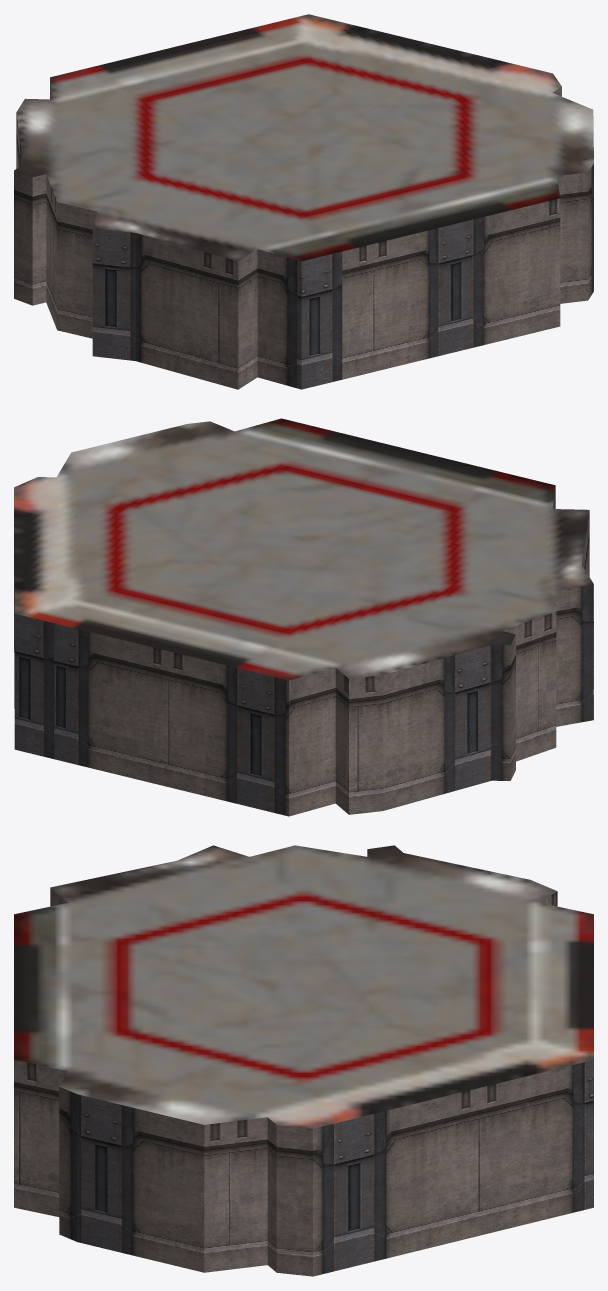
The model's file is bsealed_light_52.glb.
3 renders of one model, top to bottom at view 1: azimuth 30°, elevation 25°; view 2: azimuth 150°, elevation 25°; view 3: azimuth 270°, elevation 25°, orthographic. The views are drawn at different scales.
Visible parts, largest first — view 1: buildings/saxarba/bsealed_light/bsealed_light_52; view 2: buildings/saxarba/bsealed_light/bsealed_light_52; view 3: buildings/saxarba/bsealed_light/bsealed_light_52.
Boxes of the visible parts, bbox=[...] form: buildings/saxarba/bsealed_light/bsealed_light_52: bbox=[14, 14, 593, 389]; buildings/saxarba/bsealed_light/bsealed_light_52: bbox=[14, 418, 593, 816]; buildings/saxarba/bsealed_light/bsealed_light_52: bbox=[14, 845, 593, 1276].
Bounding box in the file's own units: 74 × 18 × 64.
